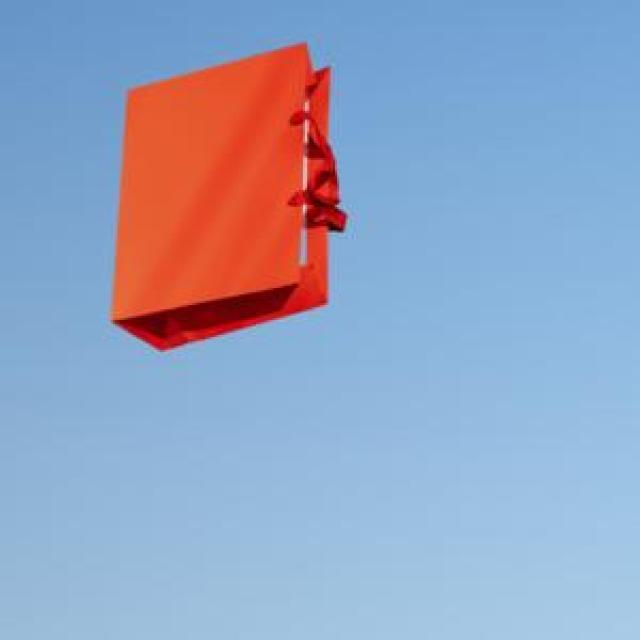paper: (107, 38, 341, 346)
